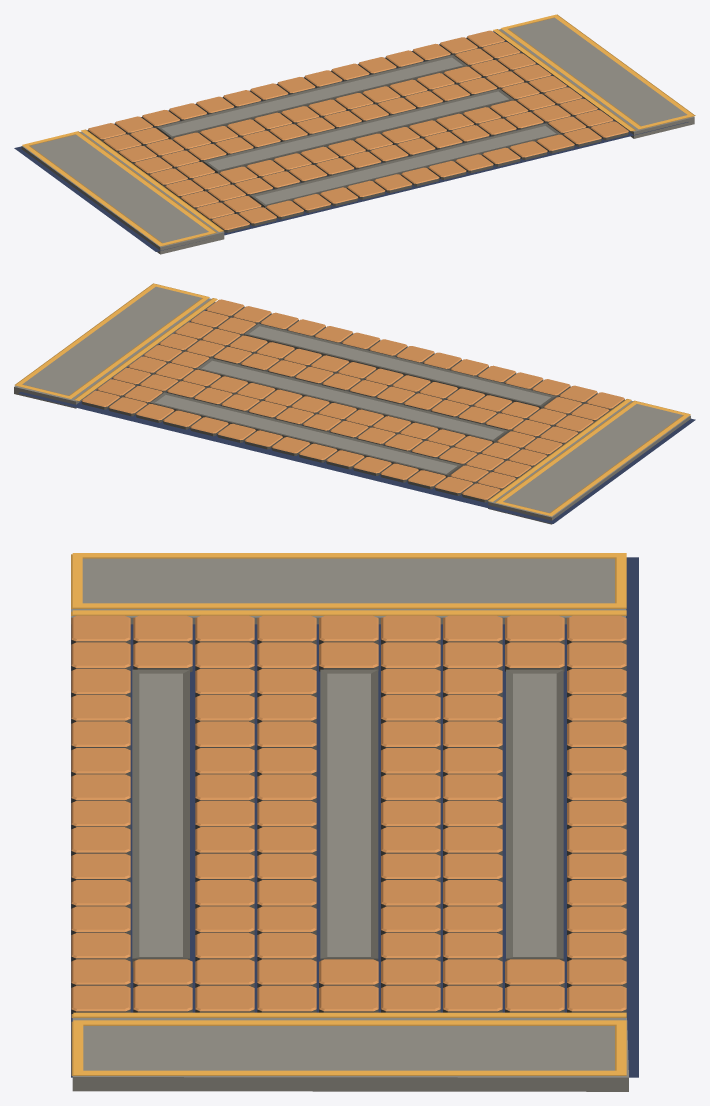
The model's file is Floor.FBX.
The picture shows the model from 3 angles, top to bottom: view 1: azimuth 30°, elevation 25°; view 2: azimuth 150°, elevation 25°; view 3: azimuth 270°, elevation 25°; orthographic projection. The views are drawn at different scales.
Parts seen in each view (by area): view 1: Floor, FloorRight, FloorLeft; view 2: Floor, FloorLeft, FloorRight; view 3: Floor, FloorRight, FloorLeft.
Part boxes in pixels (x1,y1,x2,y2): Floor: (14, 18, 694, 254); FloorRight: (493, 14, 695, 131); FloorLeft: (22, 129, 223, 246); Floor: (14, 286, 695, 524); FloorLeft: (488, 399, 690, 516); FloorRight: (14, 283, 217, 400); Floor: (71, 557, 638, 1091); FloorRight: (71, 1012, 626, 1075); FloorLeft: (71, 553, 626, 615).
Bounding box in the file's own units: 906 × 14.5 × 412.
